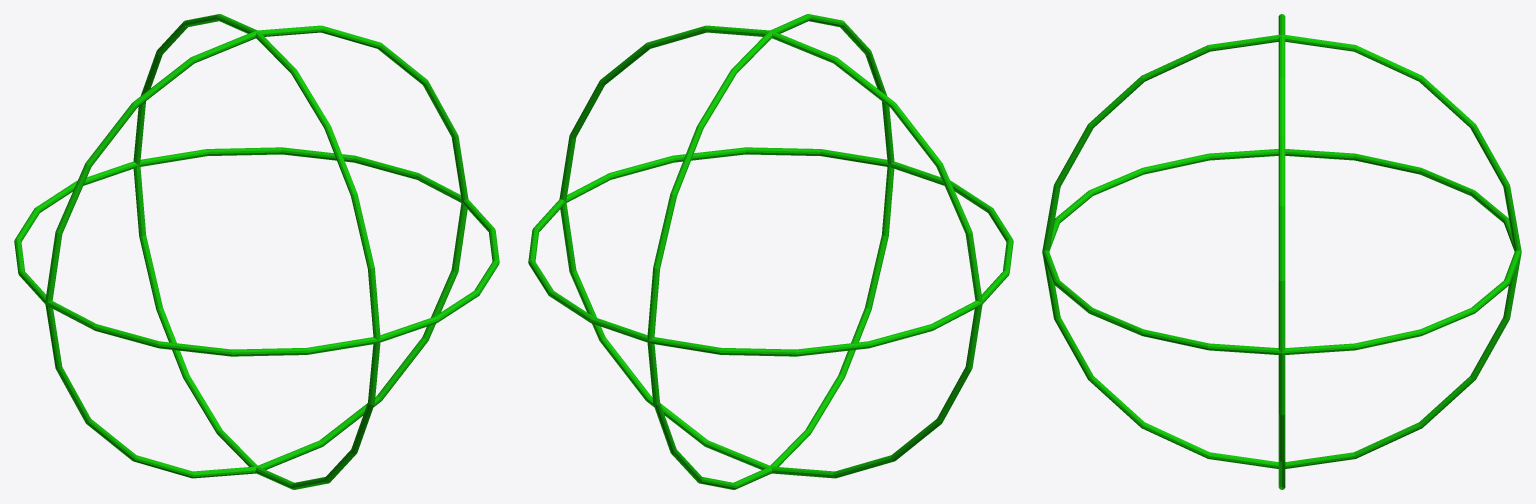
The model's file is sphereCollider.obj.
The picture shows the model from 3 angles, left to right: view 1: azimuth 30°, elevation 25°; view 2: azimuth 150°, elevation 25°; view 3: azimuth 270°, elevation 25°; orthographic projection.
Parts seen in each view (by area): view 1: sphereCollider; view 2: sphereCollider; view 3: sphereCollider.
Part boxes in pixels (<box>): sphereCollider: <box>14,14,499,489</box>; sphereCollider: <box>528,14,1013,489</box>; sphereCollider: <box>1042,14,1521,489</box>.
Size of the model in its own units: 2.03 by 2.03 by 2.03.
